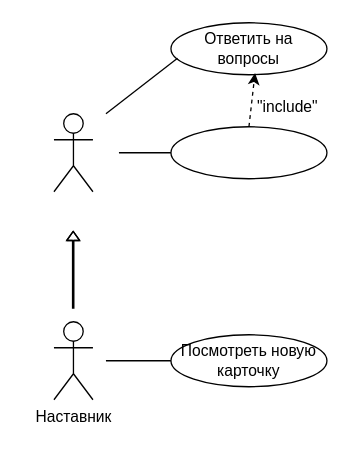
This 350x450 diagram has some shape labels left out. Here are the shapes that lost their labels. From the top down, the centre of each, then its label:
At [73,152]: "Пользователь".
At [248,152]: "Создать новую карточку".
